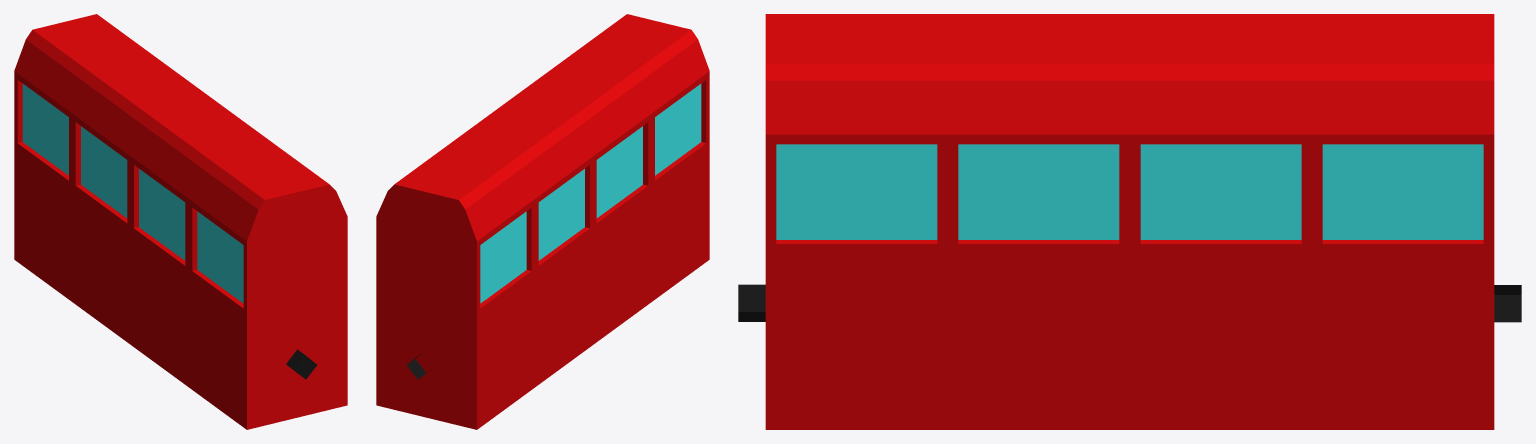
File: trainCar.dae
3 views of the same model, side by side, from view 1: azimuth 30°, elevation 25°; view 2: azimuth 150°, elevation 25°; view 3: azimuth 270°, elevation 25° (orthographic). The views are drawn at different scales.
Visible parts, largest first — view 1: TrainCar; view 2: TrainCar; view 3: TrainCar.
Part boxes in pixels (x1,y1,x2,y2): TrainCar: [14, 14, 347, 429]; TrainCar: [376, 14, 709, 429]; TrainCar: [738, 14, 1521, 429].
Size of the model in its own units: 2 by 8.6 by 4.28.
